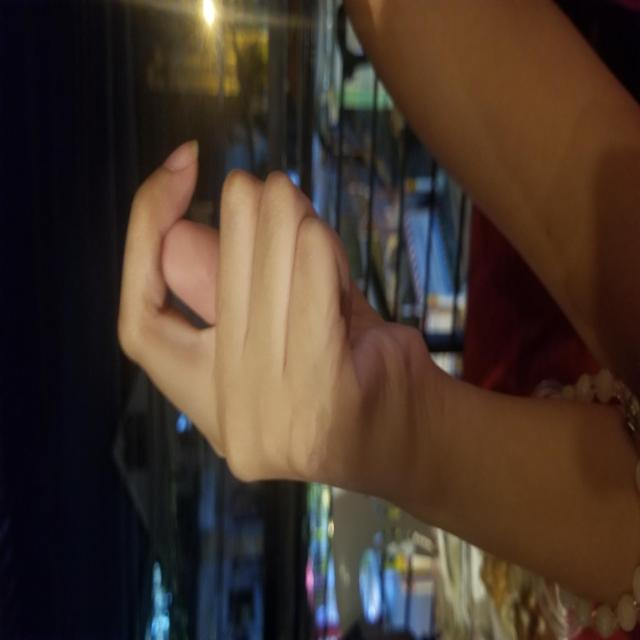T: (152, 116, 501, 421)
